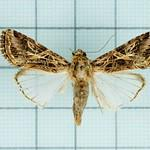Spodoptera litura: (1, 29, 150, 126)
